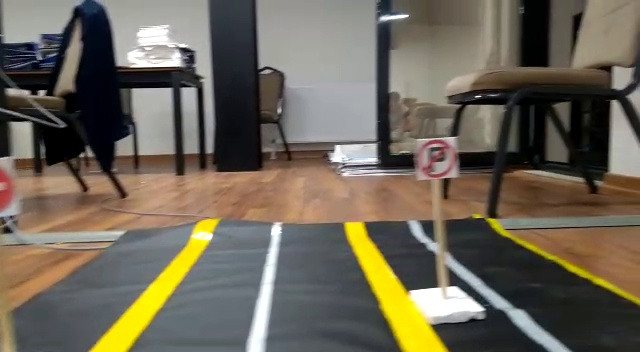park_yapilmaz: (415, 139, 459, 175)
